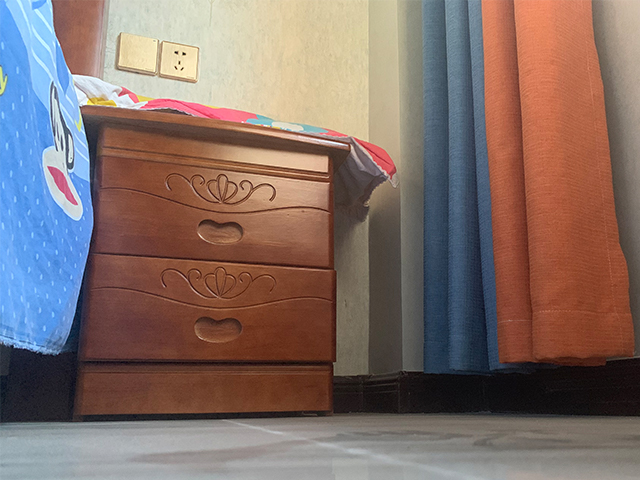cabinet: (72, 105, 351, 419)
curtain: (420, 1, 636, 373)
